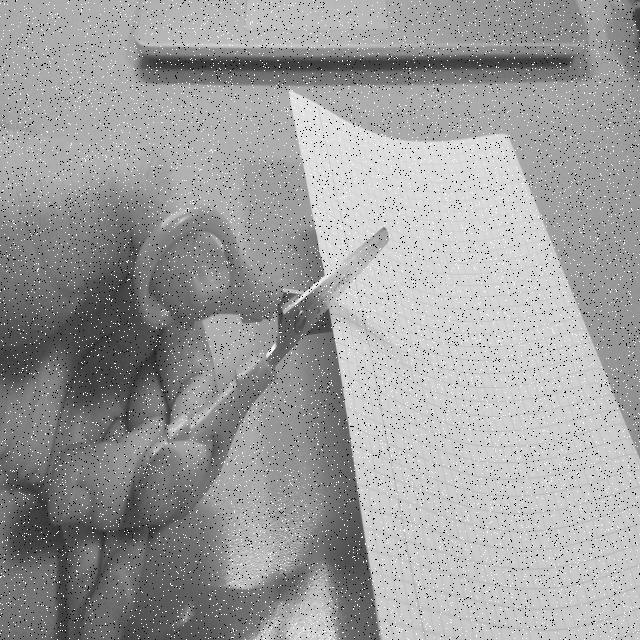scissors: (129, 193, 392, 534)
